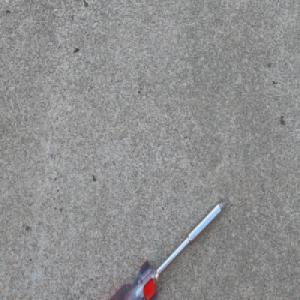Screwdriver: (104, 196, 227, 300)
